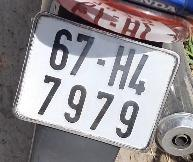4: (125, 49, 160, 100)
6: (46, 26, 76, 75)
7: (66, 29, 98, 80), (33, 72, 67, 118), (84, 88, 118, 134)
9: (61, 80, 94, 127), (111, 95, 144, 142)
H: (102, 41, 140, 94)
